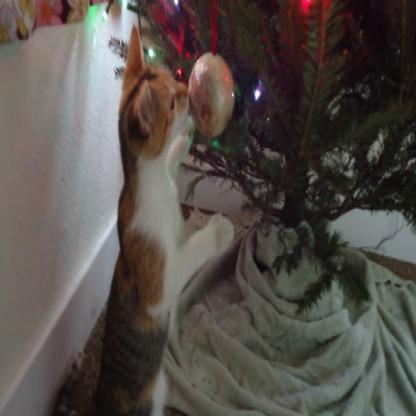Target: (96, 46, 234, 416)
